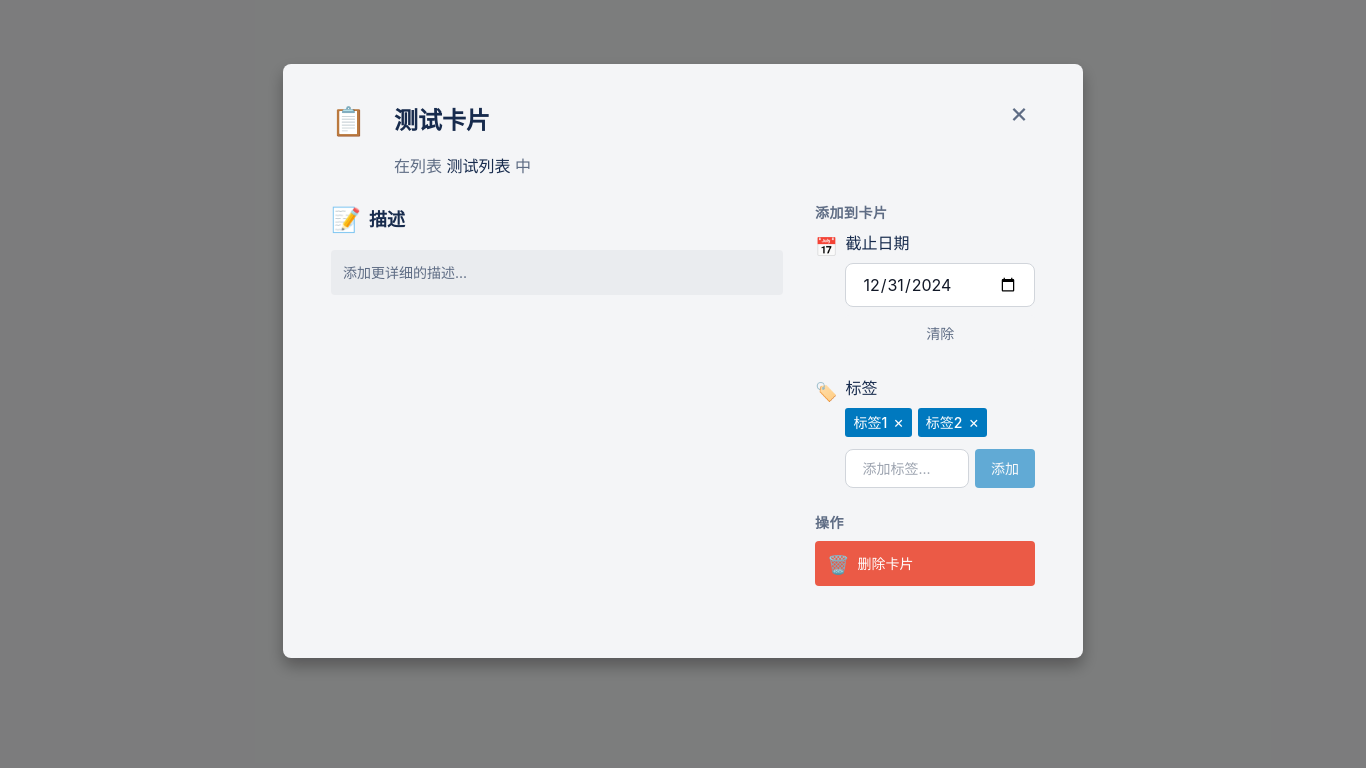
Test: CardDetail.vue › 编辑卡片描述 › 点击"添加更详细的描述"按钮进入编辑模式（无描述时）
Click the button with class "btn-add-description" at (405, 272), box [331,250,783,295]
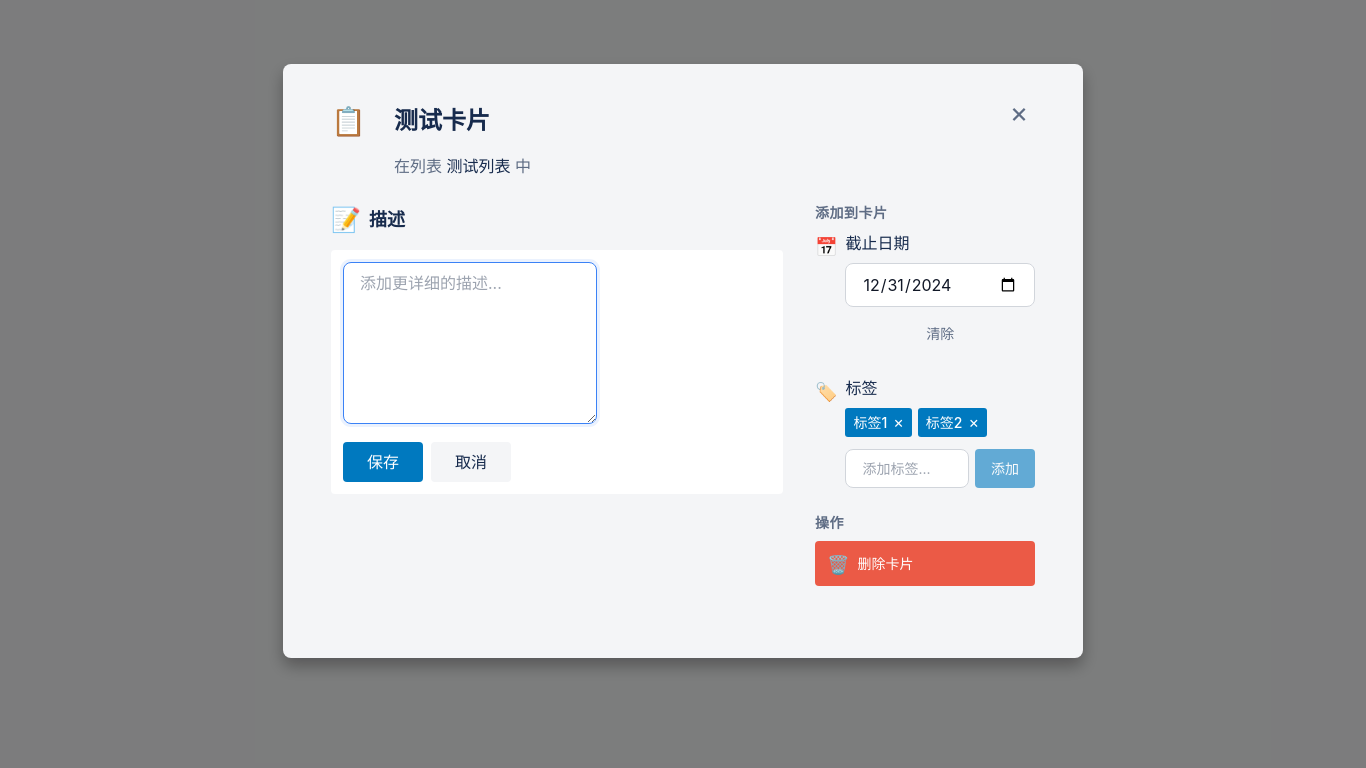
Result: the text box with class "description-input" is shown at [343,262,597,424]
